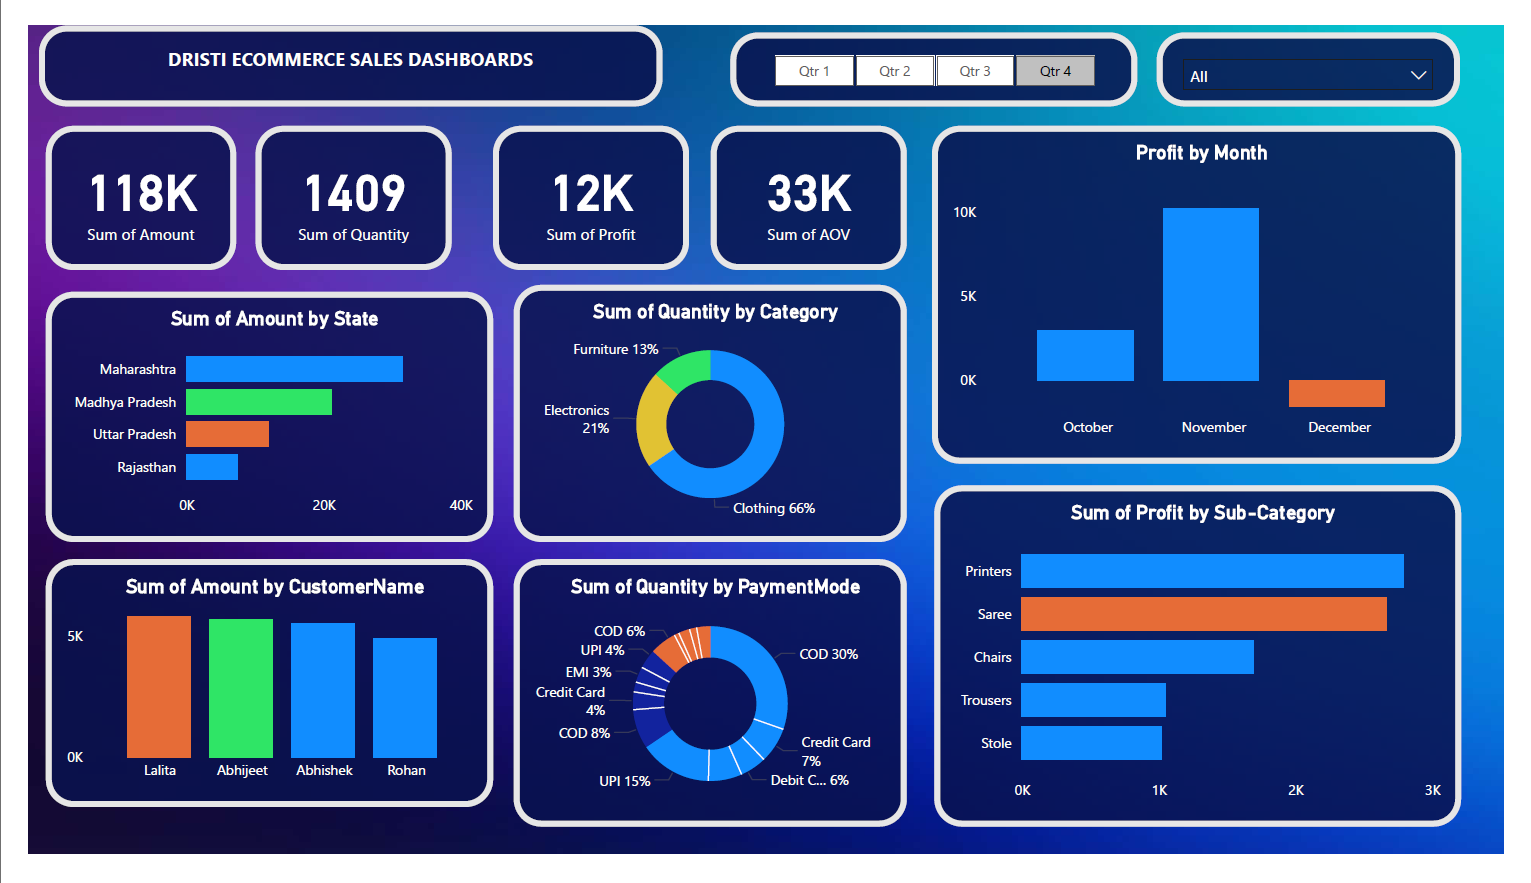

The page's visual inventory and layout, read from the dashboard file:
{"tool":"powerbi","page":{"name":"Page 1","canvas":[1280,720],"ordinal":0},"visuals":[{"type":"textbox","box":[9.4,0,540.5,69.9],"z":0},{"type":"columnChart","title":"Profit by Month","fields":{"Y":["Details.Profit"],"Category":["Orders.Order Date.Variation.Date Hierarchy.Month"]},"box":[784.3,86.9,459.2,292.9],"z":1000},{"type":"barChart","fields":{"Category":["Details.Sub-Category"],"Y":["Details.Profit"]},"box":[786.1,398.7,457.3,296.7],"z":2000},{"type":"donutChart","fields":{"Category":["Details.Category"],"Y":["Details.Quantity"]},"box":[421.4,224.9,340.2,223],"z":3000},{"type":"donutChart","title":"Sum of Quantity by PaymentMode","fields":{"Category":["Details.Category"],"Y":["Details.Quantity"],"Series":["Details.PaymentMode"]},"box":[421.4,463,340.2,232.4],"z":4000},{"type":"card","fields":{"Values":["Details.Amount"]},"box":[15.1,86.9,164.4,124.7],"z":5000},{"type":"card","fields":{"Values":["Details.Quantity"]},"box":[196.5,86.9,170.1,124.7],"z":6000},{"type":"card","fields":{"Values":["Details.Profit"]},"box":[402.5,86.9,170.1,124.7],"z":7000},{"type":"card","fields":{"Values":["Details.AOV"]},"box":[591.5,86.9,170.1,124.7],"z":8000},{"type":"barChart","fields":{"Category":["Orders.State"],"Y":["Details.Amount"]},"box":[15.1,230.6,387.4,217.3],"z":9000},{"type":"columnChart","fields":{"Category":["Orders.CustomerName"],"Y":["Details.Amount"]},"box":[15.1,463,387.4,215.4],"z":10000},{"type":"slicer","fields":{"Values":["Orders.Order Date.Variation.Date Hierarchy.Quarter"]},"box":[608.5,5.7,353.4,64.3],"z":10001},{"type":"slicer","fields":{"Values":["Orders.City"]},"box":[978.9,5.7,262.7,64.3],"z":10002}]}

Visuals, with their boxes in screenshot pixels (x1, y1, x2, y2), scaled from the page's 1280x720 canvas onto the 1531x883 screenshot:
textbox: region(11, 0, 658, 86)
"Profit by Month" columnChart: region(938, 107, 1487, 466)
barChart - Details.Sub-Category x Details.Profit: region(940, 489, 1487, 853)
donutChart - Details.Category x Details.Quantity: region(504, 276, 911, 549)
"Sum of Quantity by PaymentMode" donutChart: region(504, 568, 911, 853)
card - Details.Amount: region(18, 107, 215, 260)
card - Details.Quantity: region(235, 107, 438, 260)
card - Details.Profit: region(481, 107, 685, 260)
card - Details.AOV: region(707, 107, 911, 260)
barChart - Orders.State x Details.Amount: region(18, 283, 481, 549)
columnChart - Orders.CustomerName x Details.Amount: region(18, 568, 481, 832)
slicer - Orders.Order Date.Variation.Date Hierarchy.Quarter: region(728, 7, 1151, 86)
slicer - Orders.City: region(1171, 7, 1485, 86)
